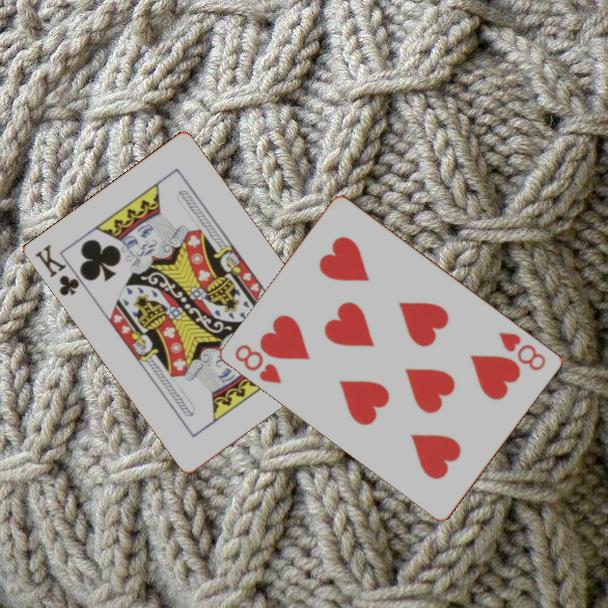c13: (31, 240, 83, 299)
h08: (496, 328, 549, 374), (232, 341, 285, 386)
